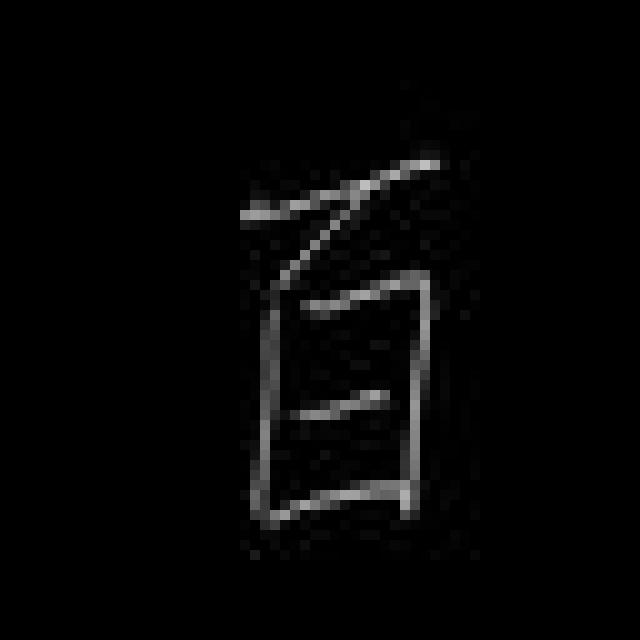100 -a hundred-: (222, 145, 436, 522)
